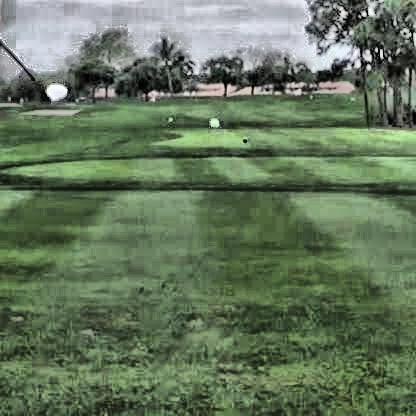golfball: (207, 117, 217, 127)
